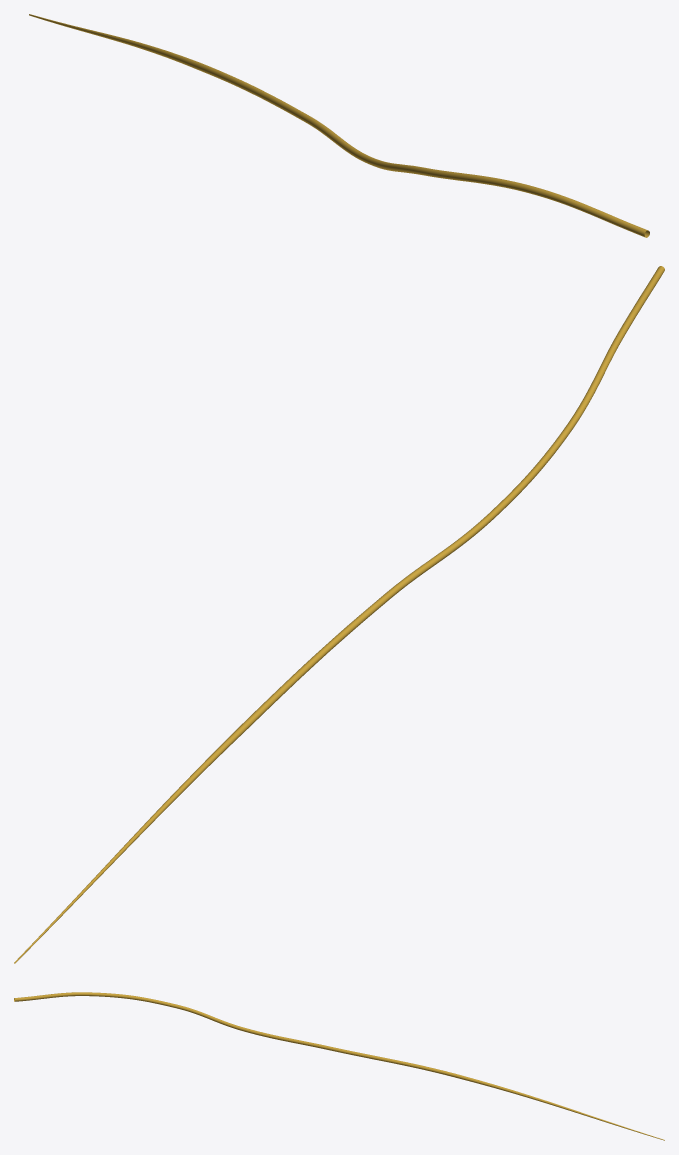
3 views of the same model, one above another, from view 1: azimuth 30°, elevation 25°; view 2: azimuth 150°, elevation 25°; view 3: azimuth 270°, elevation 25° (orthographic). The views are drawn at different scales.
Visible parts, largest first — view 1: 左侧骨间后神经; view 2: 左侧骨间后神经; view 3: 左侧骨间后神经.
Boxes of the visible parts, bbox=[...] form: 左侧骨间后神经: bbox=[29, 14, 649, 237]; 左侧骨间后神经: bbox=[14, 266, 664, 963]; 左侧骨间后神经: bbox=[14, 992, 664, 1140].
Size of the model in its own units: 0.0211 by 0.0562 by 0.2465.
